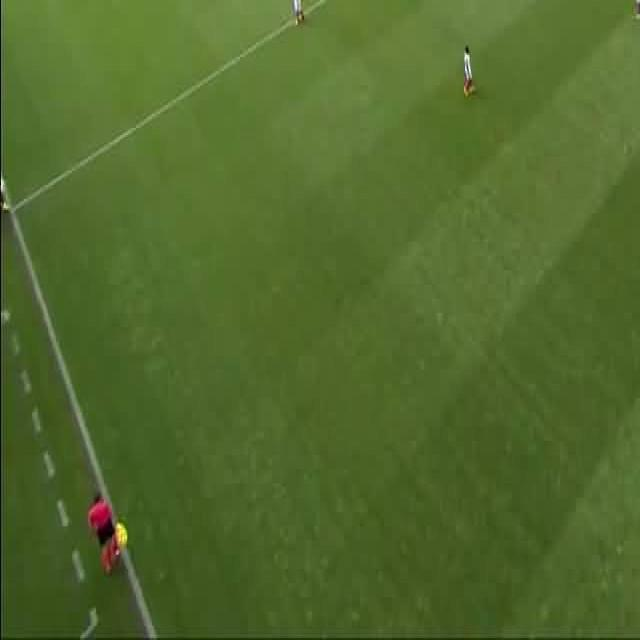player-white: (90, 488, 118, 573), (462, 45, 474, 97), (291, 0, 303, 25), (634, 0, 640, 20)
